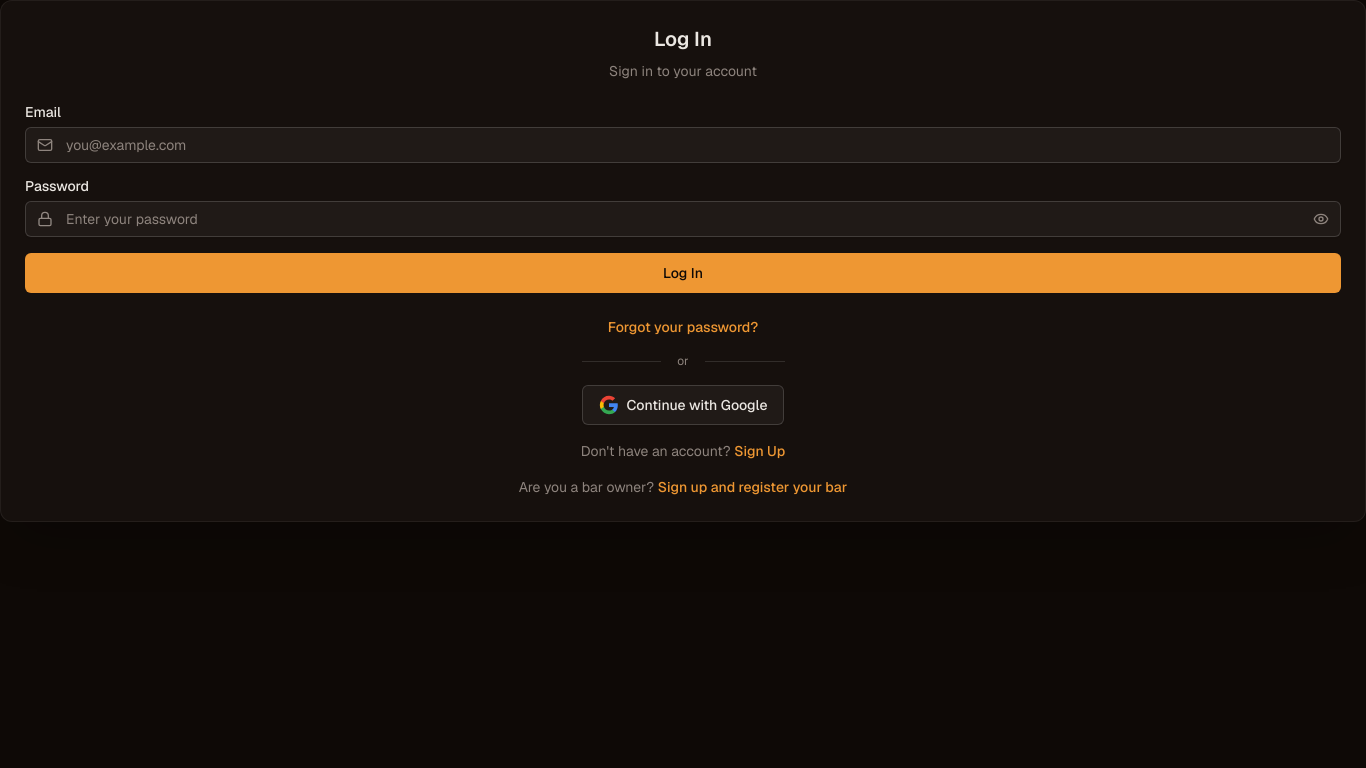
Test case: LoginForm › 로그인 실패 — 401 (잘못된 자격증명) › should display "Invalid email or password." in auth-error-message when login returns 401
The width and height of the screenshot is (1366, 768).
Type "user@example.com" into the field with test id "login-email-input". click: {"x": 683, "y": 145}
box: [25,127,1341,163]
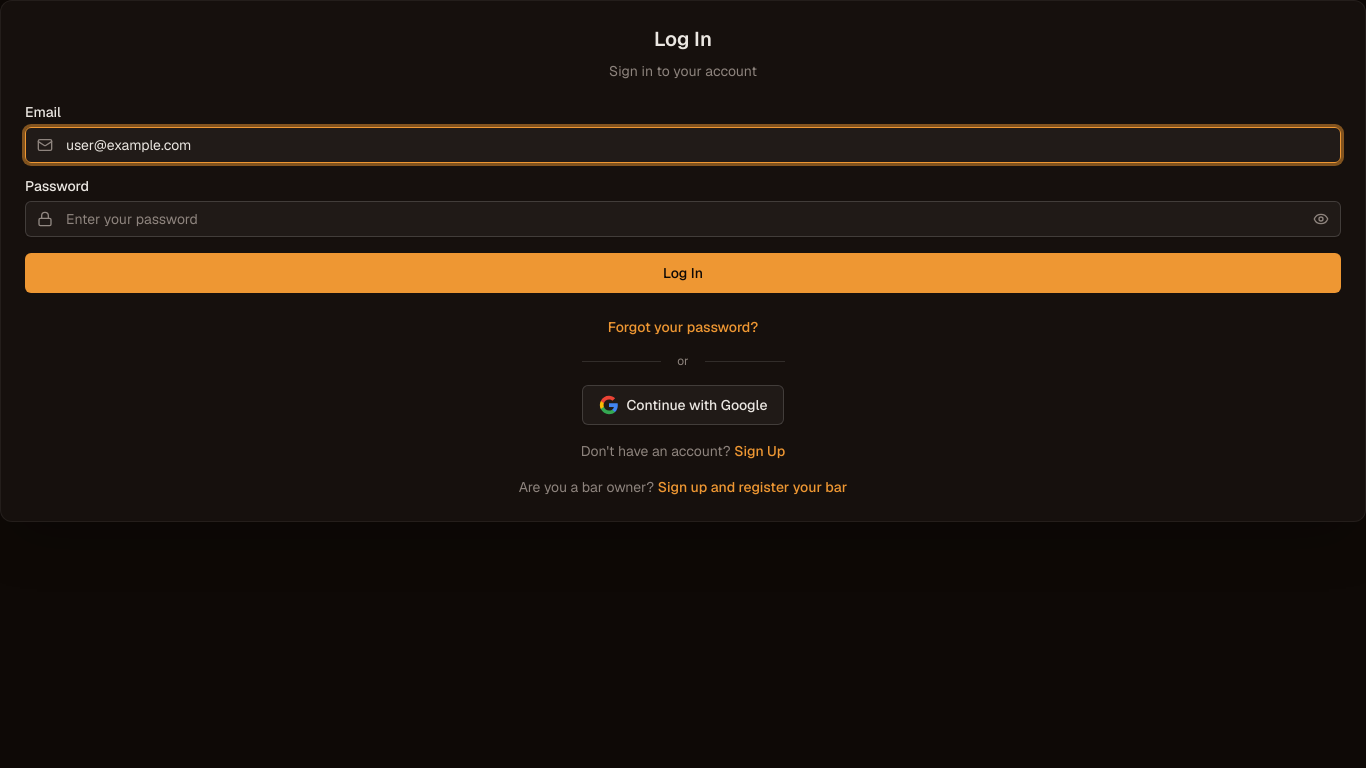
Type "wrongpassword" into the password field with test id "login-password-input". click: {"x": 683, "y": 219}
box: [25,201,1341,237]
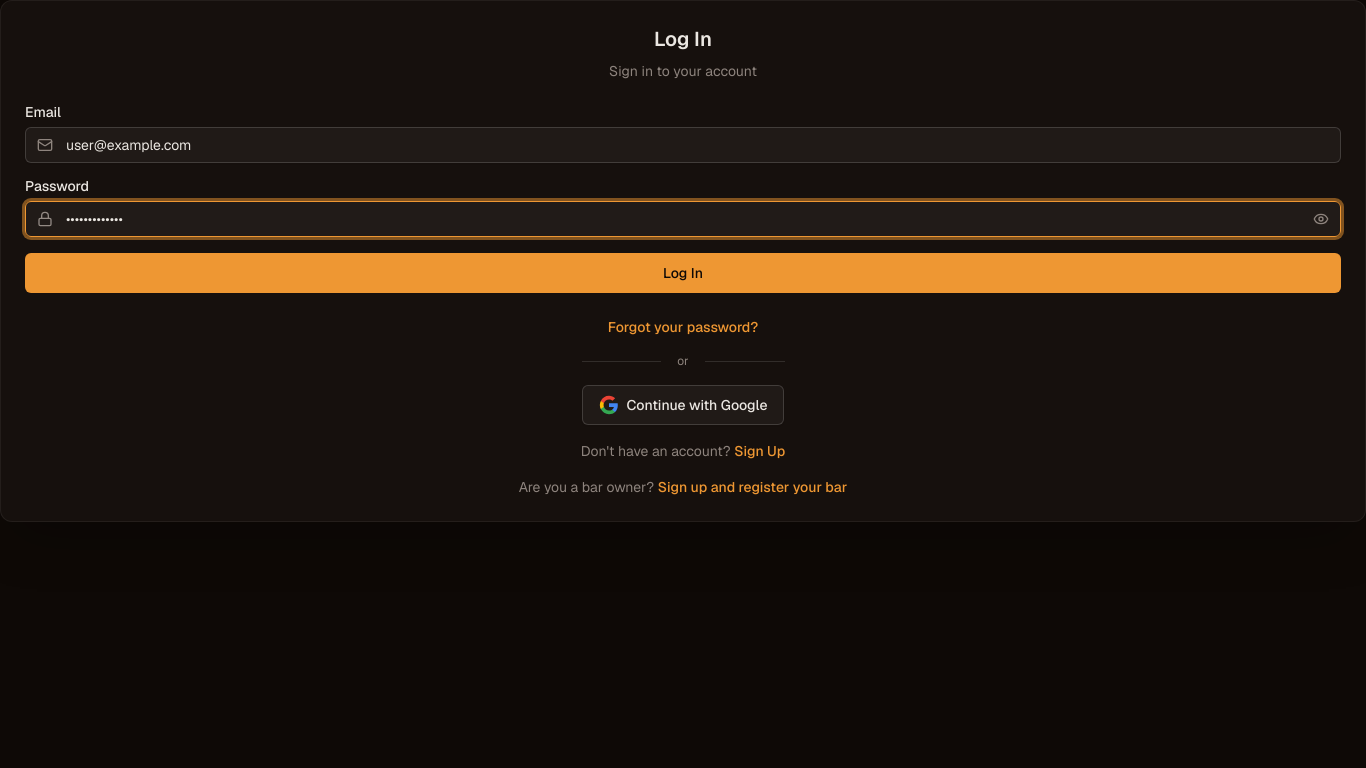
Click the button with test id "login-submit-button". click: {"x": 683, "y": 273}
box: [25,253,1341,293]
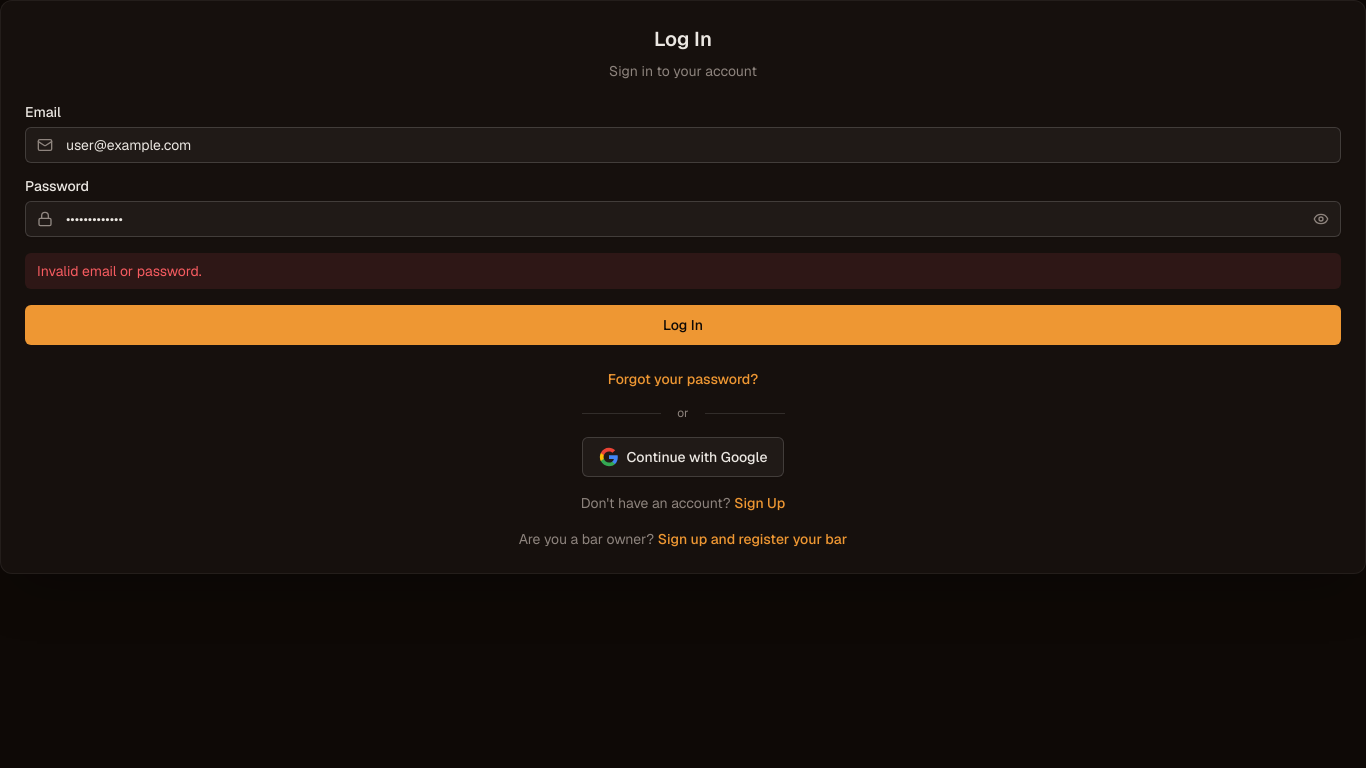
Now the message with test id "auth-error-message" reads "Invalid email or password.", box [37,262,202,280]
